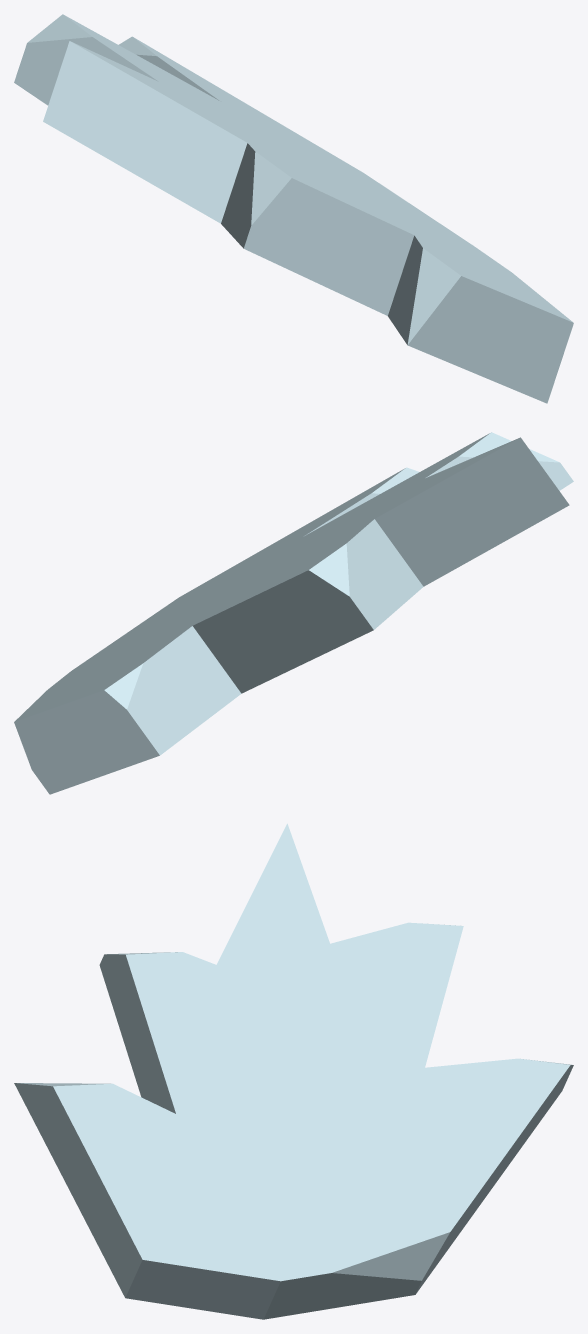
The model's file is BotonApagado.gltf.
3 renders of one model, top to bottom at view 1: azimuth 30°, elevation 25°; view 2: azimuth 150°, elevation 25°; view 3: azimuth 270°, elevation 25°, orthographic. The views are drawn at different scales.
Parts seen in each view (by area): view 1: Cylinder.011; view 2: Cylinder.011; view 3: Cylinder.011.
Part boxes in pixels (left/top/right/bottom): Cylinder.011: left=14, top=14, right=573, bottom=403; Cylinder.011: left=14, top=432, right=573, bottom=794; Cylinder.011: left=14, top=823, right=573, bottom=1319.
Size of the model in its own units: 0.2851 by 0.2292 by 0.3491.
Materials: 1 (1 with a texture image).
